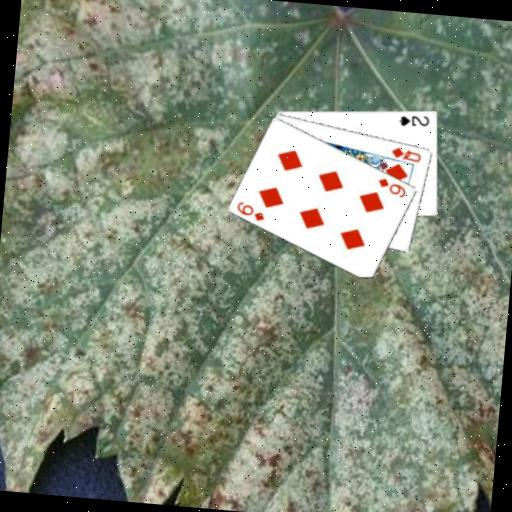2S: (396, 110, 431, 129)
6D: (233, 198, 268, 224), (374, 175, 409, 200)
QD: (388, 143, 423, 164)
